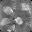people: (0, 16, 12, 27), (2, 6, 14, 16), (15, 17, 23, 25)
